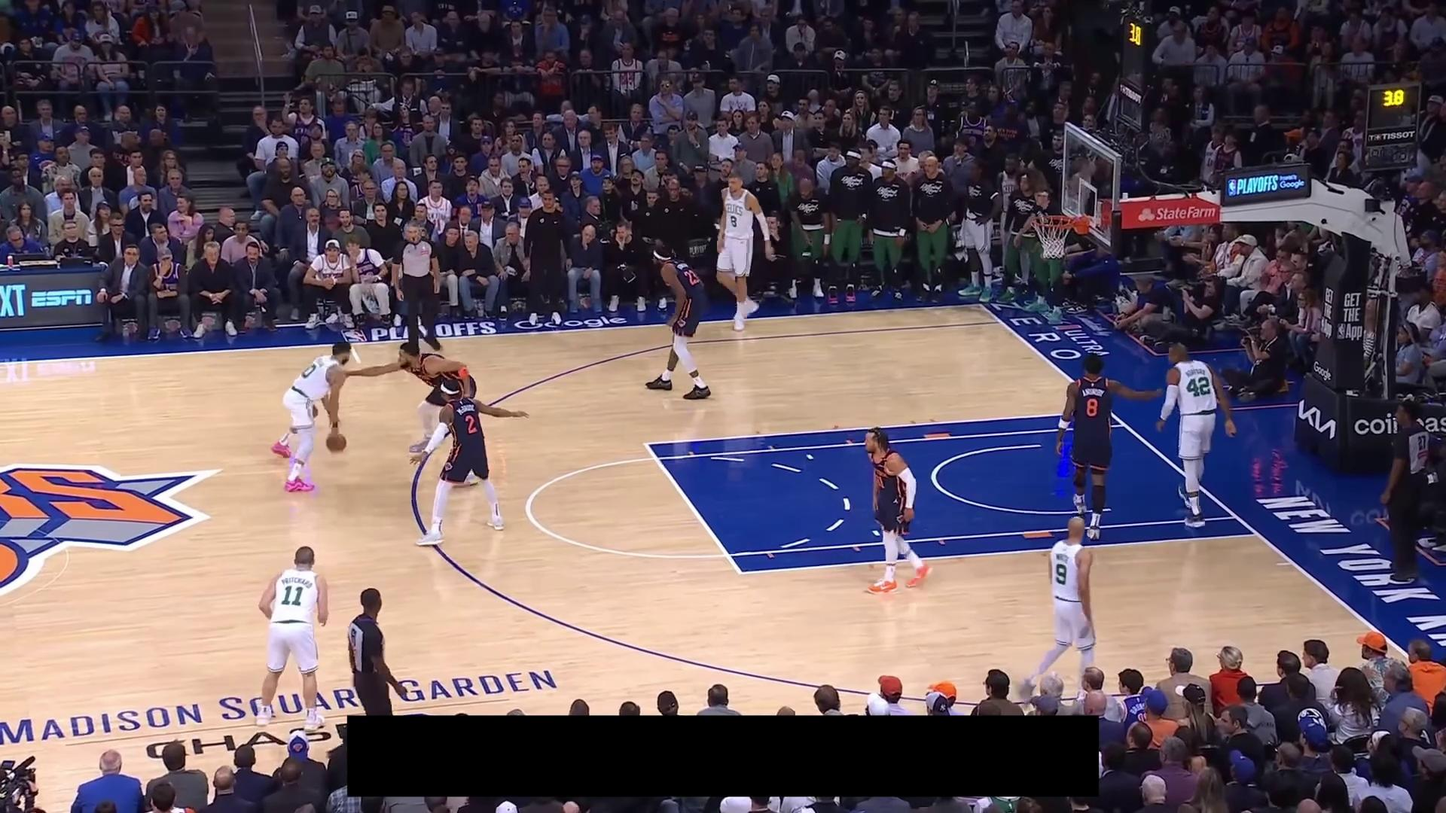ball: (325, 433, 347, 453)
number: (281, 585, 304, 607), (1187, 376, 1211, 397), (1085, 397, 1100, 418), (1055, 563, 1067, 585), (464, 414, 477, 434), (301, 362, 317, 378), (729, 214, 738, 228)
player: (1053, 349, 1167, 543), (409, 376, 535, 547), (1155, 337, 1239, 530), (1019, 514, 1101, 704), (252, 544, 331, 732), (398, 341, 486, 489), (861, 425, 933, 596), (642, 241, 714, 402), (715, 169, 776, 333)
player-in-possession: (271, 339, 353, 493)
referee: (1379, 400, 1431, 580), (347, 587, 409, 715), (392, 221, 443, 355)
rim: (1032, 215, 1076, 229)
